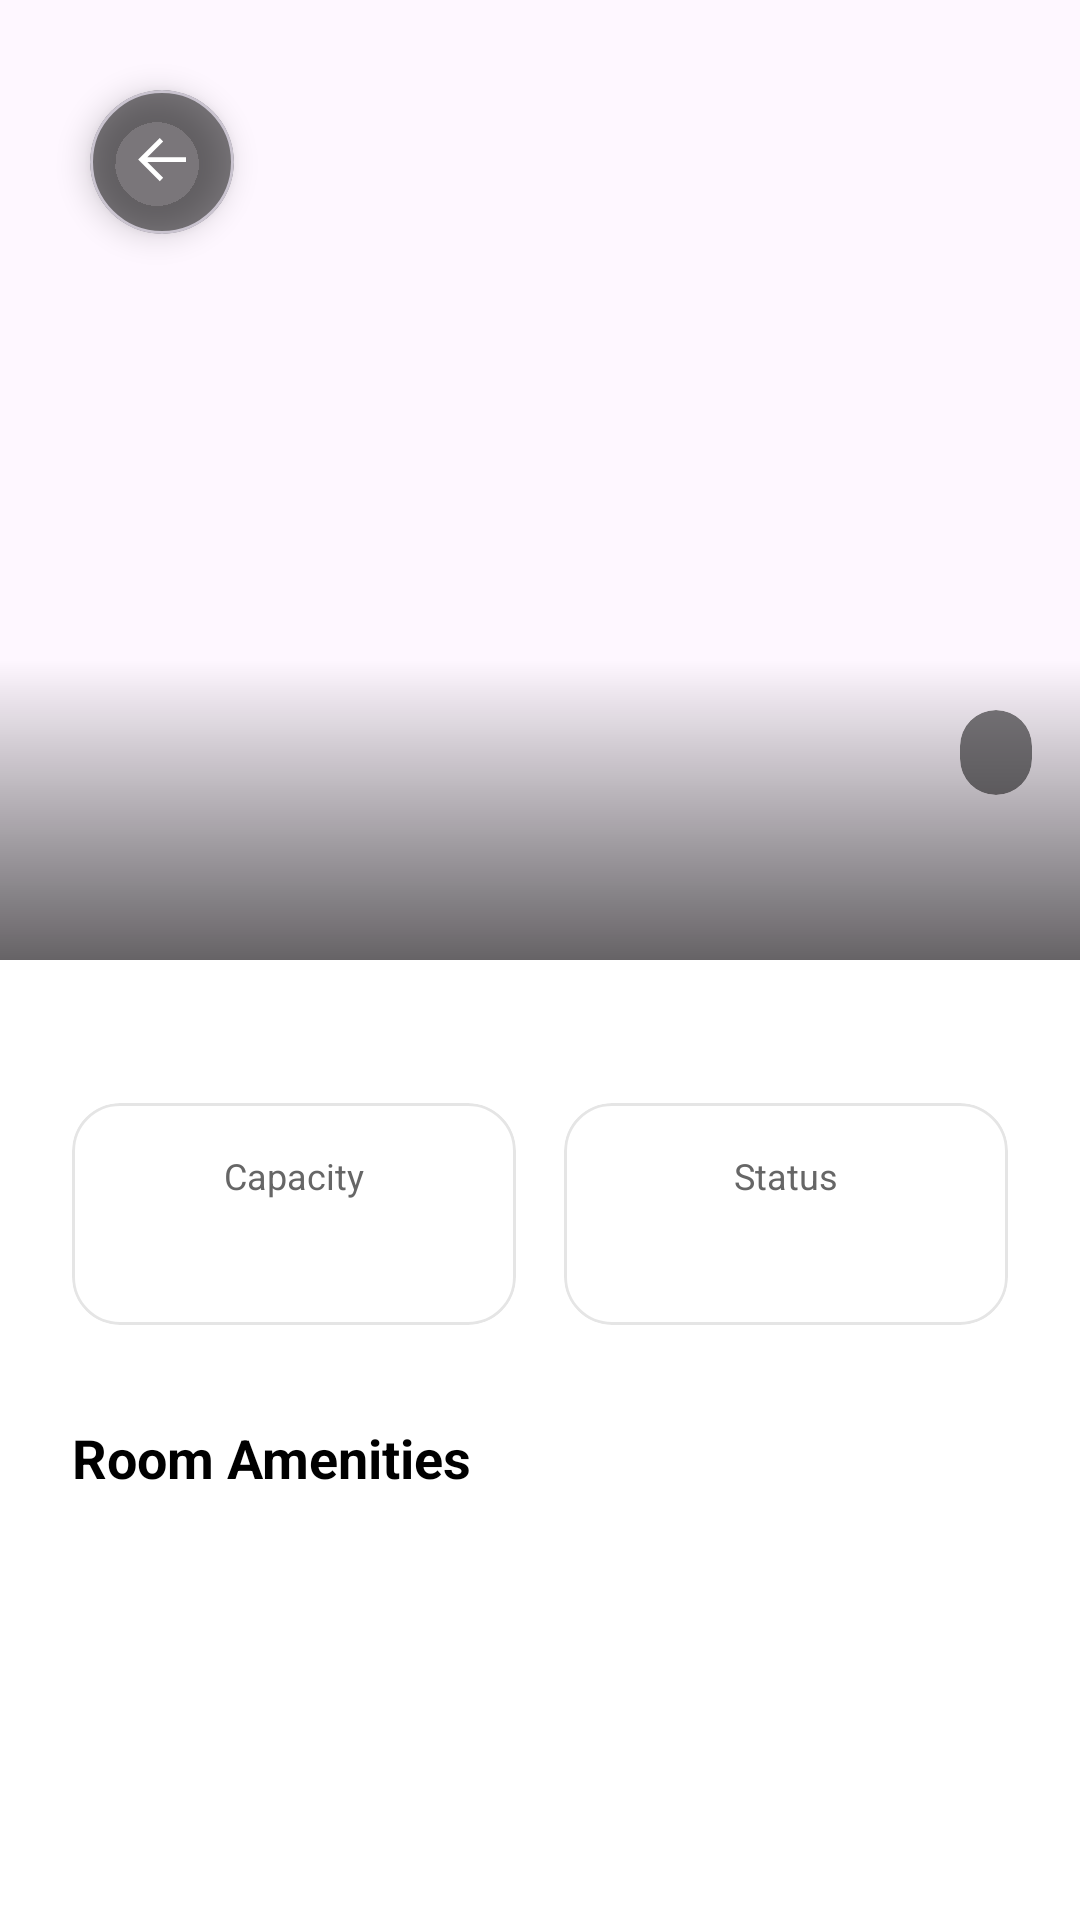

Named icons in this screenshot (1080 x 1920) and their centers, (x,y):
back arrow: (162,162)
